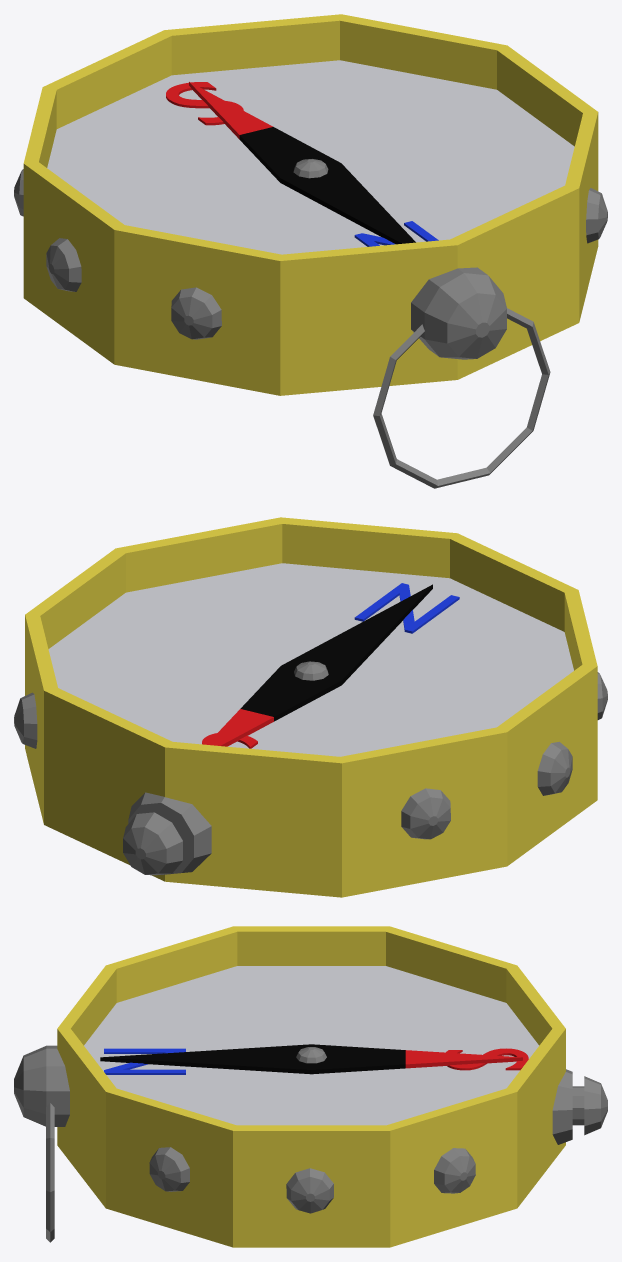
The model's file is compass.fbx.
3 renders of one model, top to bottom at view 1: azimuth 30°, elevation 25°; view 2: azimuth 150°, elevation 25°; view 3: azimuth 270°, elevation 25°, orthographic. The views are drawn at different scales.
Parts seen in each view (by area): view 1: Compass_Body, Compass_Arrow; view 2: Compass_Body, Compass_Arrow; view 3: Compass_Body, Compass_Arrow.
Boxes of the visible parts, bbox=[...] form: Compass_Body: bbox=[14, 14, 607, 488]; Compass_Arrow: bbox=[189, 82, 415, 244]; Compass_Body: bbox=[14, 517, 607, 897]; Compass_Arrow: bbox=[206, 584, 432, 746]; Compass_Body: bbox=[14, 926, 607, 1247]; Compass_Arrow: bbox=[100, 1044, 522, 1074].
Size of the model in its own units: 30.34 by 13.11 by 34.85.
